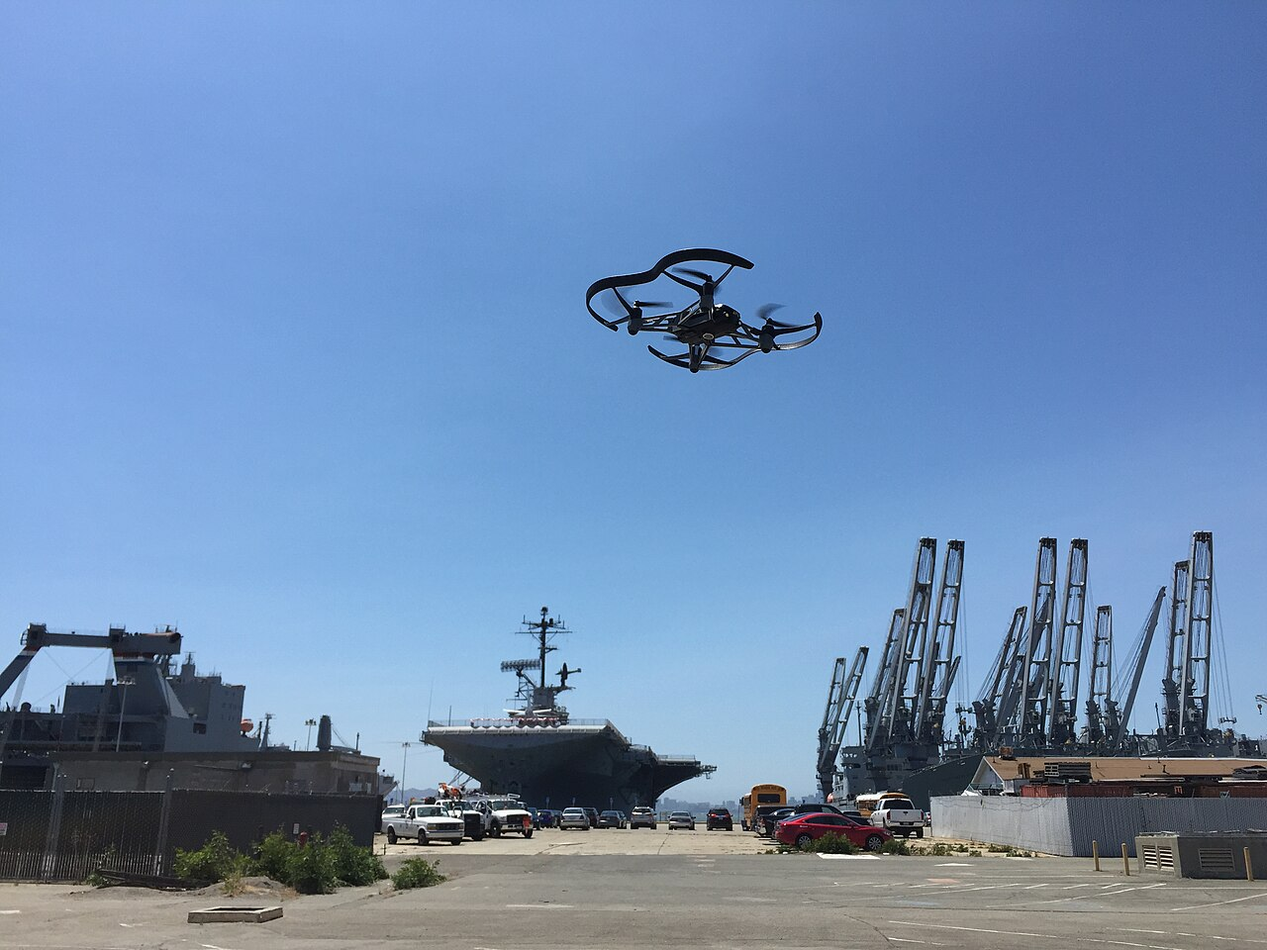drone: (584, 247, 824, 374)
